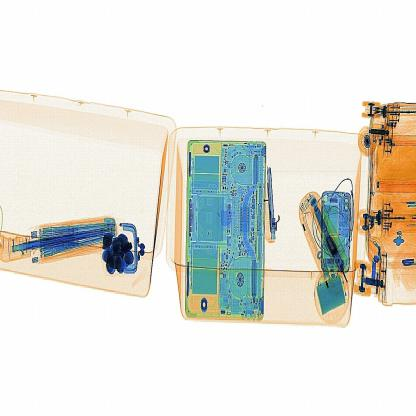pliers: (268, 168, 280, 250)
